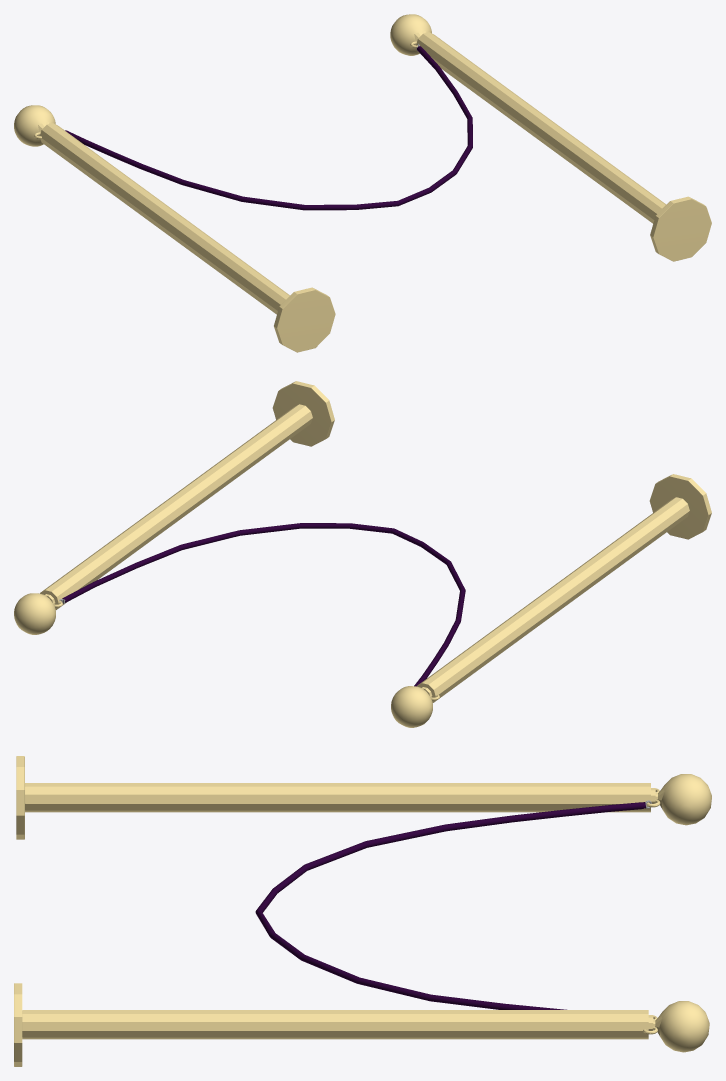
File: ribbonlow.fbx
3 views of the same model, one above another, from view 1: azimuth 30°, elevation 25°; view 2: azimuth 150°, elevation 25°; view 3: azimuth 270°, elevation 25° (orthographic). The views are drawn at different scales.
Parts seen in each view (by area): view 1: pTorus9, pTorus10, pCube7; view 2: pTorus9, pTorus10, pCube7; view 3: pTorus10, pTorus9, pCube7.
Boxes of the visible parts, x1,y1,x2,y2 form: pTorus9: (14, 105, 335, 352); pTorus10: (390, 14, 711, 261); pCube7: (65, 46, 472, 210); pTorus9: (391, 474, 711, 727); pTorus10: (14, 381, 334, 634); pCube7: (62, 523, 465, 686); pTorus10: (14, 983, 709, 1066); pTorus9: (16, 756, 711, 839); pCube7: (255, 802, 645, 1009).
Bounding box in the file's own units: 4.72 × 0.6087 × 5.31.
